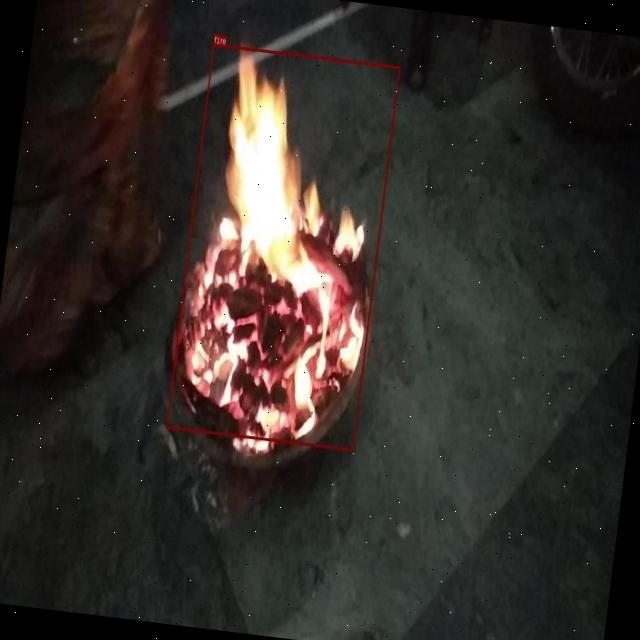fire: (166, 43, 400, 450)
